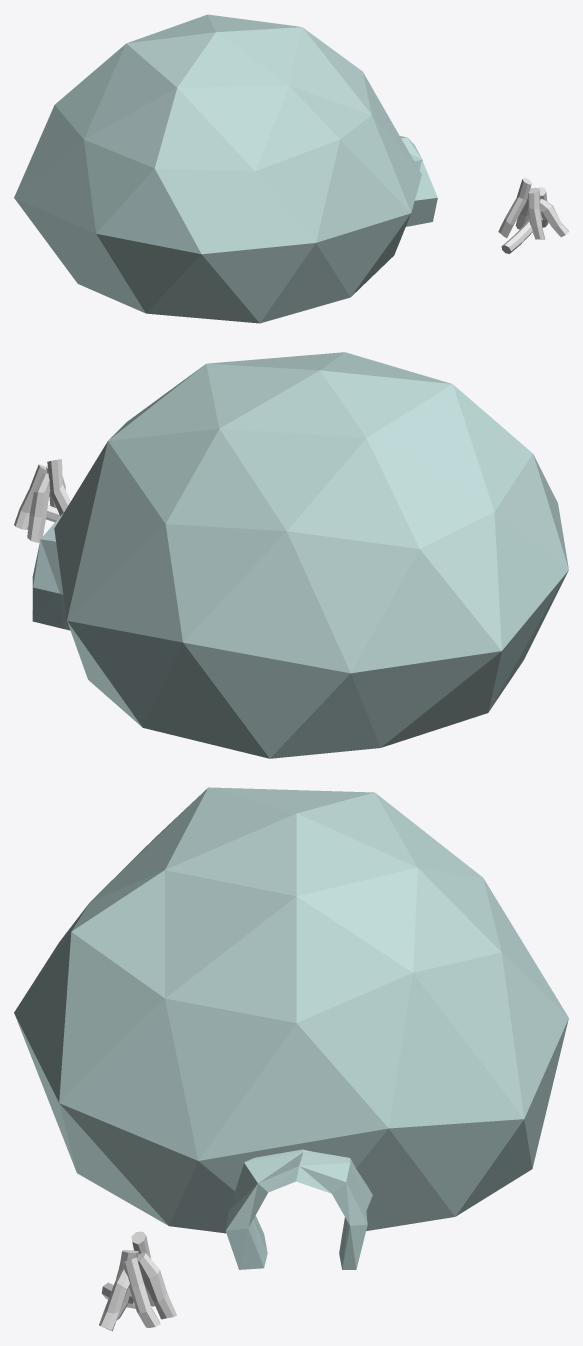
Rendered from Igloo.fbx.
The picture shows the model from 3 angles, top to bottom: view 1: azimuth 30°, elevation 25°; view 2: azimuth 150°, elevation 25°; view 3: azimuth 270°, elevation 25°; orthographic projection. The views are drawn at different scales.
Visible parts, largest first — view 1: Igloo, Campfire; view 2: Igloo, Campfire; view 3: Igloo, Campfire.
Part boxes in pixels (<box>): Igloo: <box>14,14,437,323</box>; Campfire: <box>498,178,568,253</box>; Igloo: <box>32,352,568,758</box>; Campfire: <box>14,459,70,542</box>; Igloo: <box>14,787,568,1269</box>; Campfire: <box>99,1231,176,1331</box>.
Size of the model in its own units: 384 by 184 by 282.
